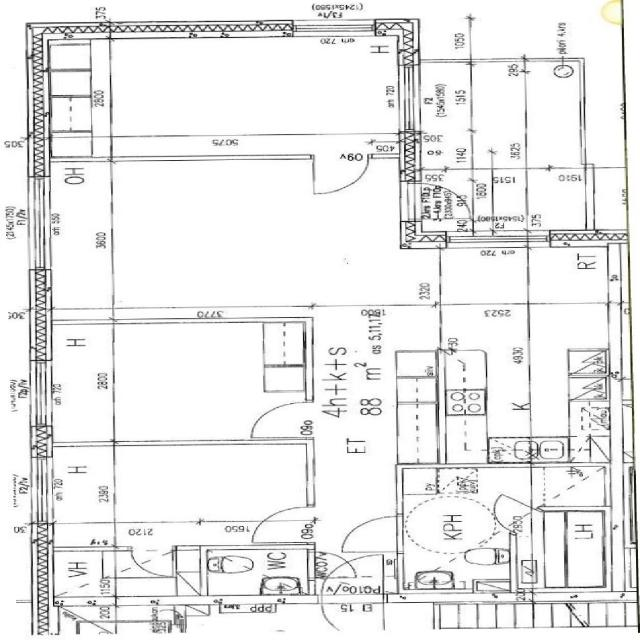door: (244, 398, 314, 439), (339, 512, 402, 554), (249, 506, 316, 545), (307, 160, 369, 198), (120, 546, 177, 579), (316, 555, 365, 578)
window: (20, 175, 60, 278), (392, 62, 425, 134), (26, 452, 58, 526), (27, 356, 56, 424), (442, 231, 528, 249), (393, 180, 421, 222), (533, 299, 607, 308)
zone: (80, 35, 407, 155), (448, 292, 622, 446), (107, 322, 296, 443), (111, 443, 314, 538), (396, 483, 526, 592), (522, 509, 610, 595), (475, 168, 591, 232), (41, 444, 114, 529), (195, 546, 318, 596), (527, 244, 618, 304), (438, 245, 528, 305), (48, 548, 116, 603), (529, 465, 608, 509), (406, 174, 474, 222), (62, 620, 186, 639), (317, 552, 388, 582), (316, 574, 396, 596)
